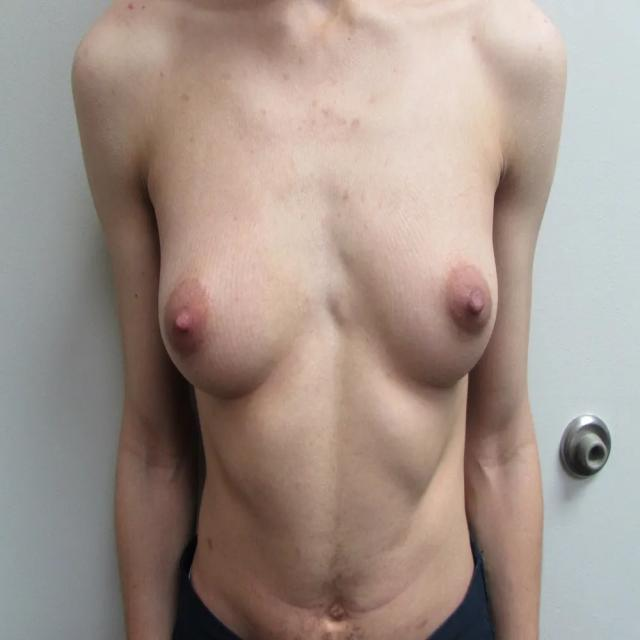Seno ileso: (142, 175, 327, 422), (336, 175, 505, 423)
